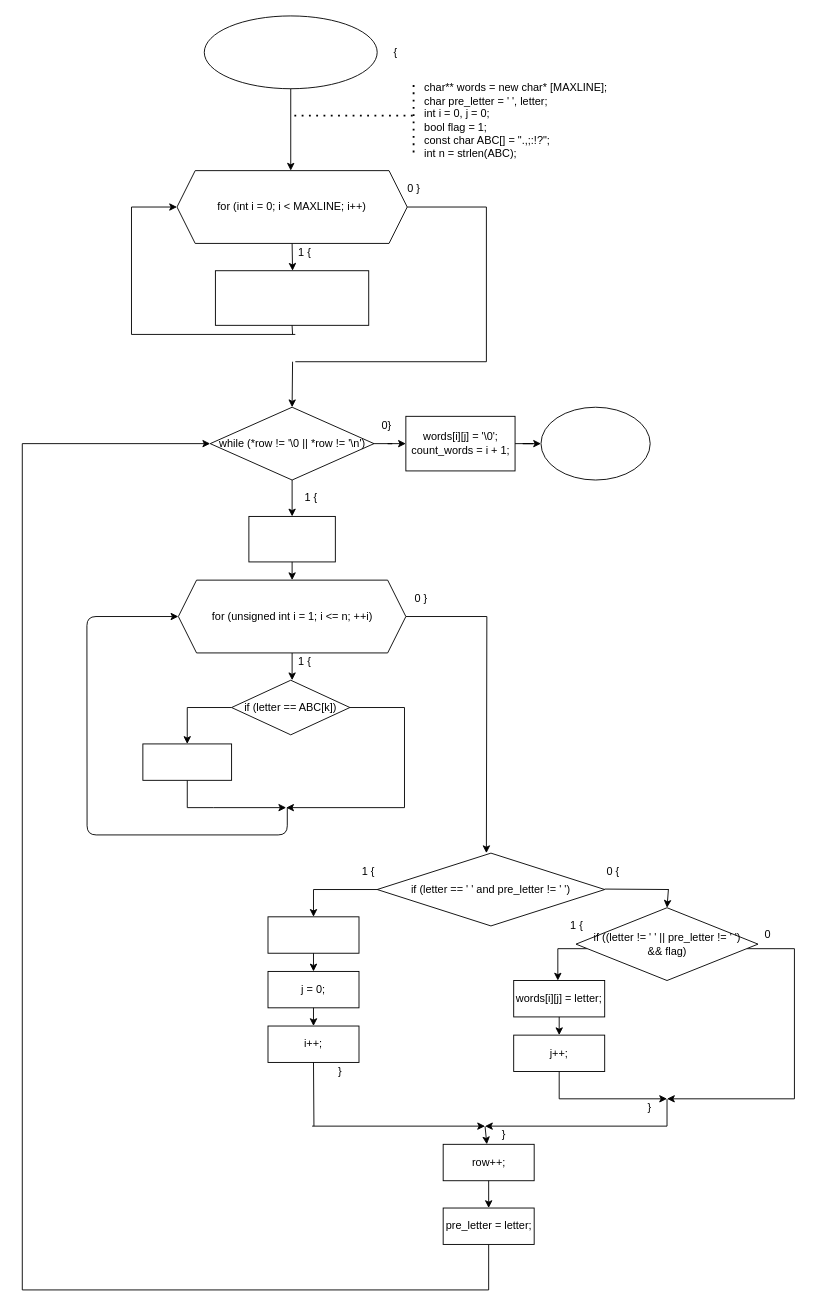
The diagram is 818 pixels wide and 1313 high, and some of its shapes have lost their labels. The shapes that lost their labels are listed below. From the top down, each one's centre as x and y in pixels, then its label:
At (290,52): "char** createListWords(char* row, &count_words)".
At (291,297): "words[i] = new char[MAXLINE]".
At (595,443): "return words;".
At (291,539): "letter = *row; flag = 1;".
At (187,761): "flag = 0".
At (313,934): "words[i][j] = '\0';".
